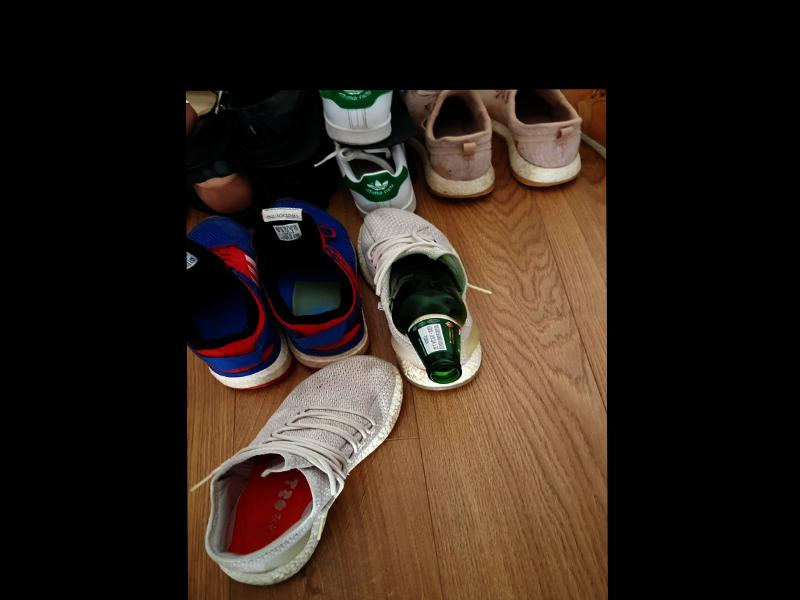Beer: (388, 255, 466, 384)
